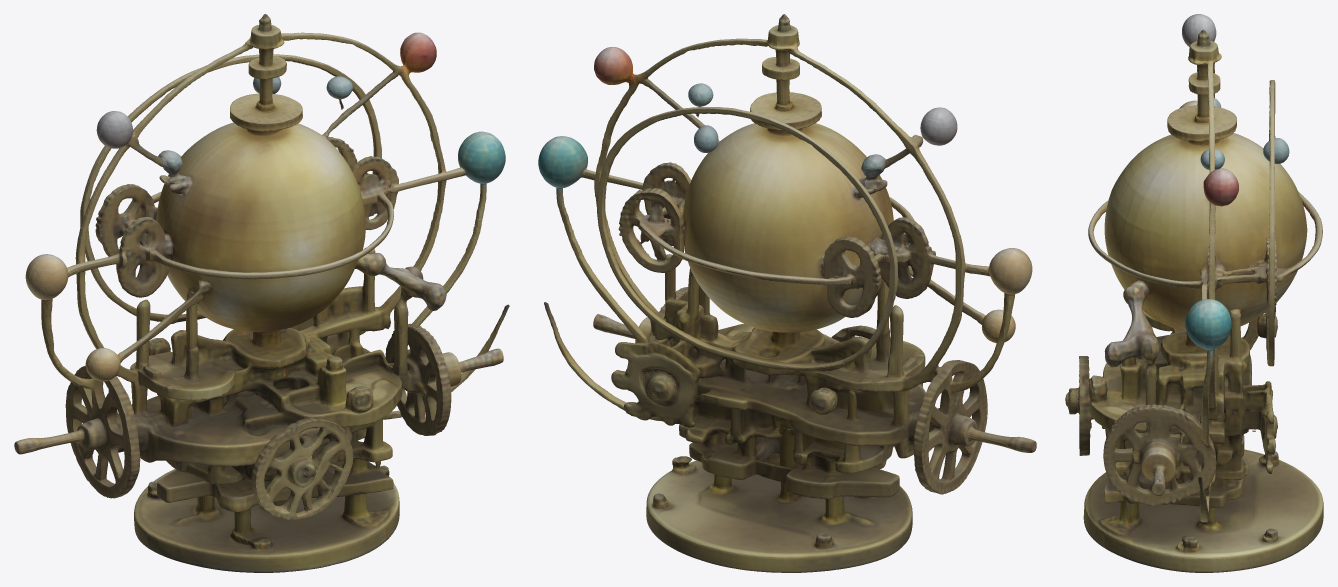
File: model.meshopt.glb
3 views of the same model, side by side, from view 1: azimuth 30°, elevation 25°; view 2: azimuth 150°, elevation 25°; view 3: azimuth 270°, elevation 25° (orthographic). The views are drawn at different scales.
Visible parts, largest first — view 1: world; view 2: world; view 3: world.
Part boxes in pixels (<box>): world: <box>14,14,509,572</box>; world: <box>538,14,1036,572</box>; world: <box>1065,14,1323,572</box>.
Size of the model in its own units: 0.9887 by 0.9753 by 0.4685.
